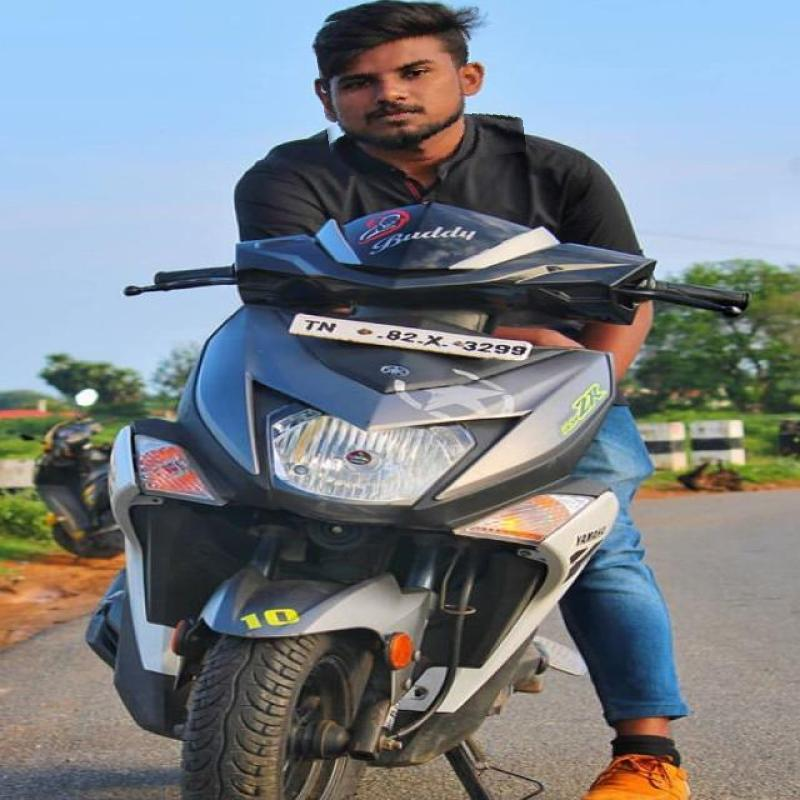nohelmet: (318, 3, 522, 172)
